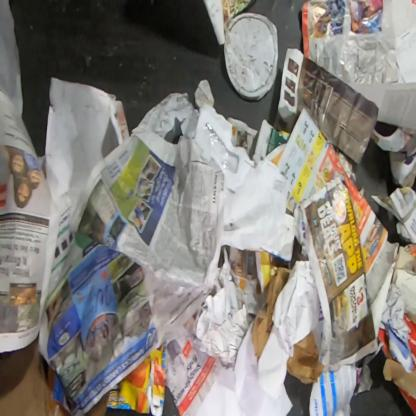cardboard: (0, 335, 53, 415), (377, 313, 415, 415)
soft_plastic: (223, 11, 279, 102)
